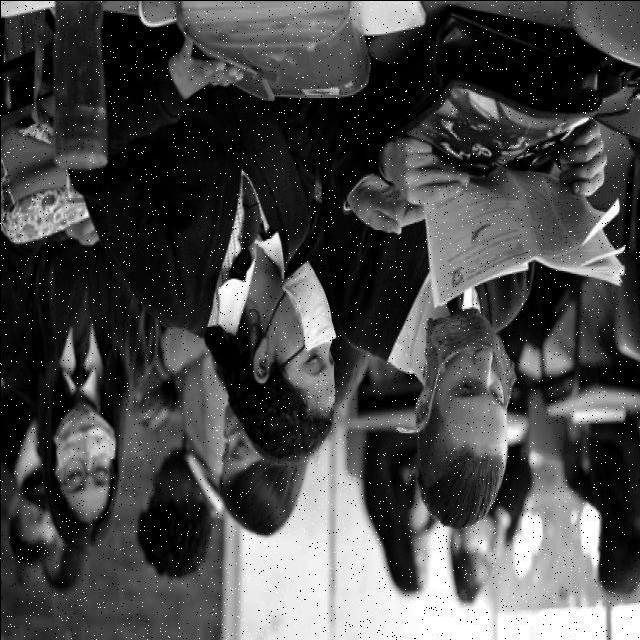mask: (54, 414, 122, 468), (292, 270, 328, 342)
no_apron: (172, 34, 242, 108), (403, 132, 461, 210), (561, 114, 607, 202), (345, 163, 395, 235)
no_gloves: (433, 453, 508, 517), (232, 475, 290, 531), (146, 516, 206, 568), (255, 412, 327, 452), (58, 499, 106, 538)
no_hairnet: (433, 330, 517, 380)
